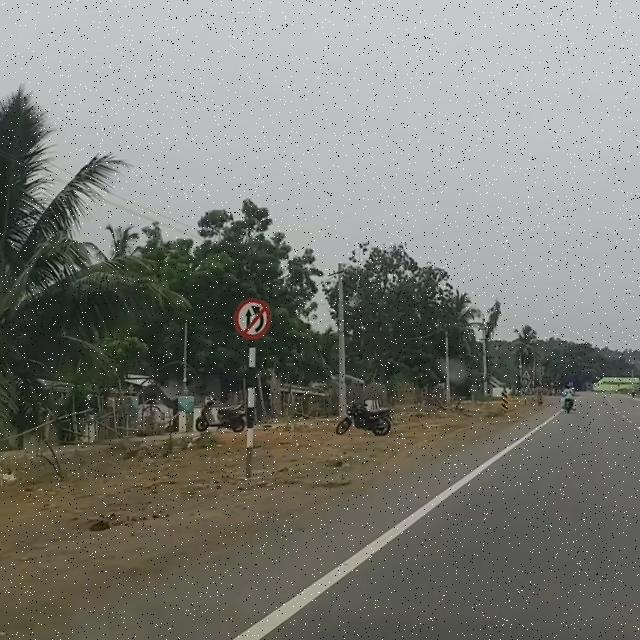No_overtaking: (232, 300, 271, 340)
